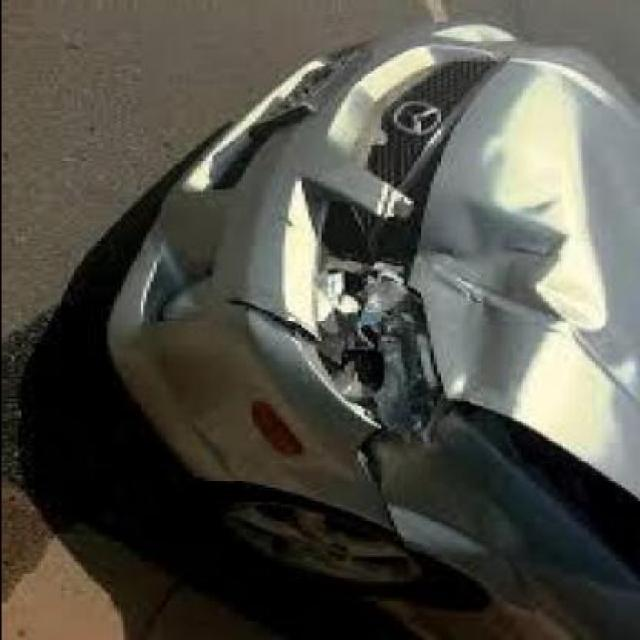damage: (217, 124, 638, 568)
